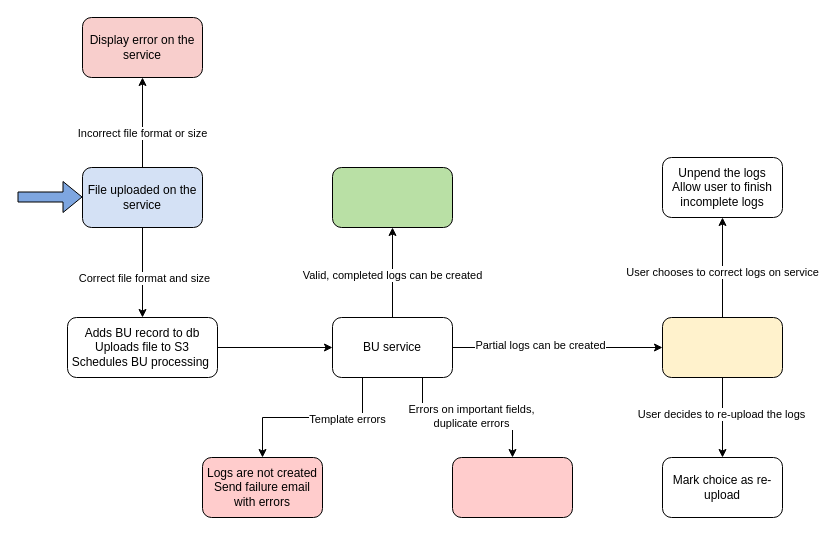
The diagram is 835 pixels wide and 535 high, and some of its shapes have lost their labels. The shapes that lost their labels are listed below. From the top down, each one's centre as x and y in pixels, then its label:
point (392, 197): Uploads the logs to the service Sends a success email
point (722, 347): Create pending logs Clear invalid values Send resume email
point (512, 487): Logs are not created Send failure email with link to error summary
